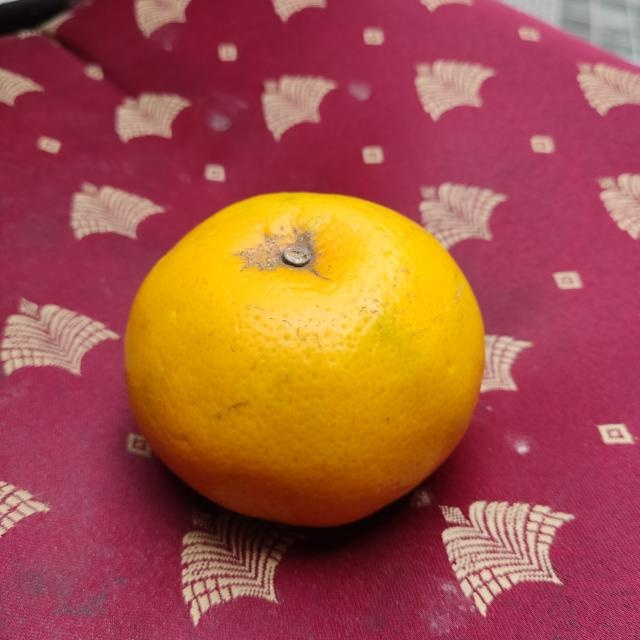agrume: (121, 188, 489, 524)
